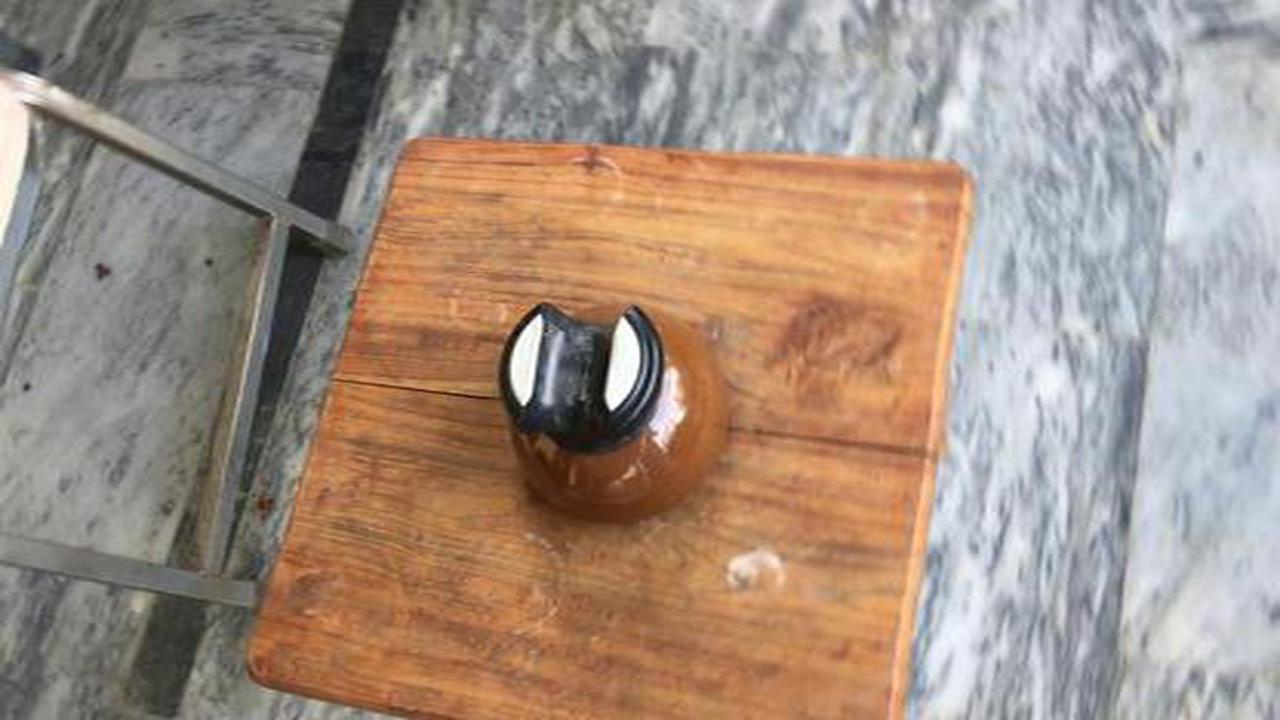insulator_pin: (471, 288, 745, 537)
